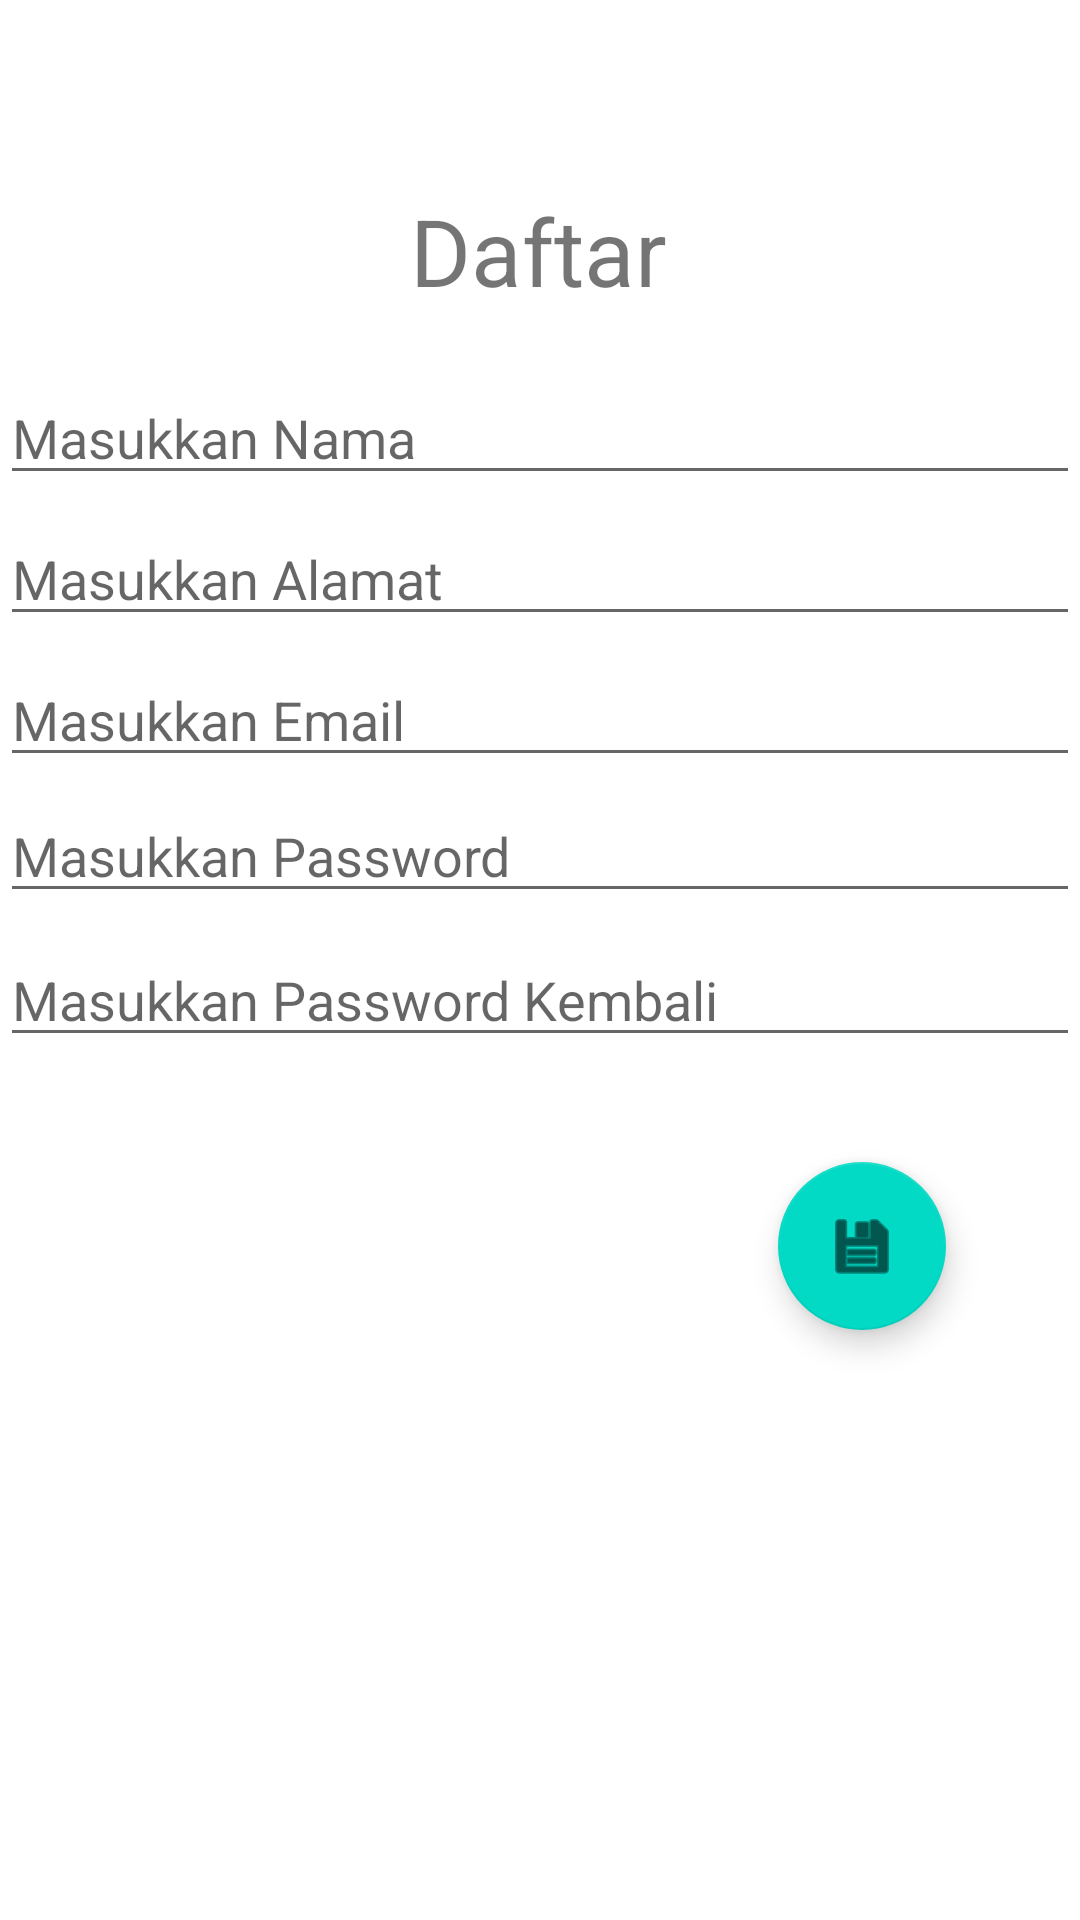

Point at icon controls on the screen. Image size 1080 × 1920, points as (x=x, y=y).
save: (x=862, y=1246)
